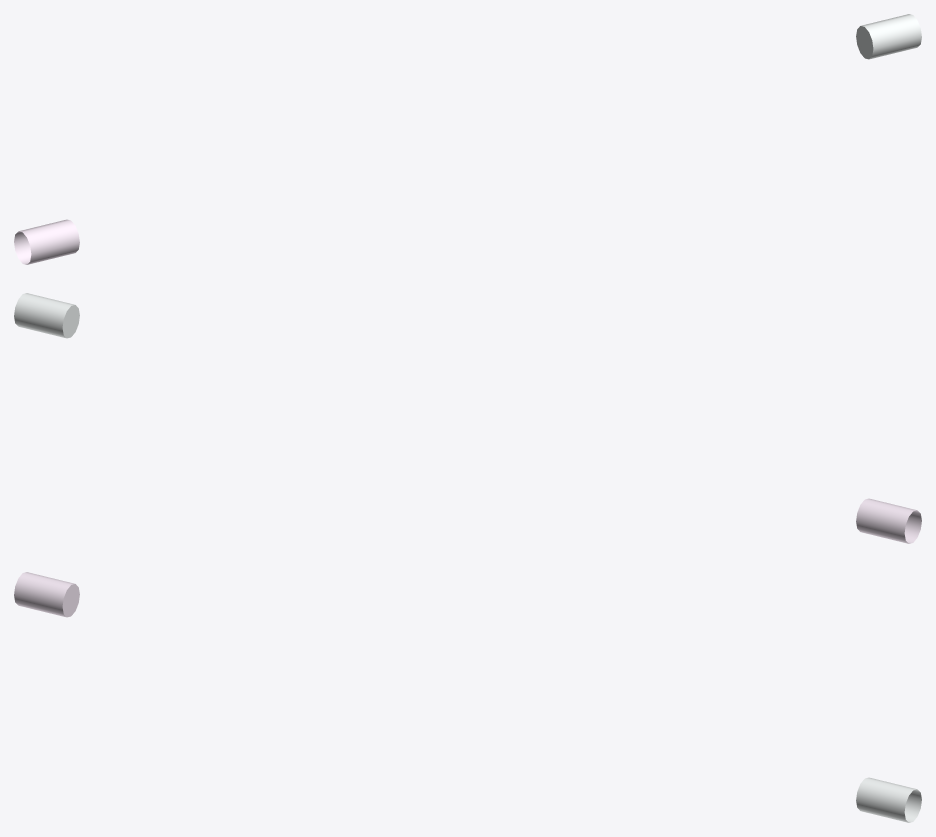
3 renders of one model, top to bottom at view 1: azimuth 30°, elevation 25°; view 2: azimuth 150°, elevation 25°; view 3: azimuth 330°, elevation 25°, orthographic.
Visible parts, largest first — view 1: Joint_0_Object_0, Joint_0_Object_1; view 2: Joint_0_Object_0, Joint_0_Object_1; view 3: Joint_0_Object_0, Joint_0_Object_1.
Boxes of the visible parts, box(x1,y1,x2,y2) form: Joint_0_Object_0: box(14, 219, 79, 264); Joint_0_Object_1: box(856, 14, 921, 59); Joint_0_Object_0: box(856, 498, 921, 543); Joint_0_Object_1: box(14, 293, 79, 338); Joint_0_Object_0: box(14, 572, 79, 617); Joint_0_Object_1: box(856, 777, 921, 822).
Size of the model in its own units: 2917 by 98.54 by 98.54.
